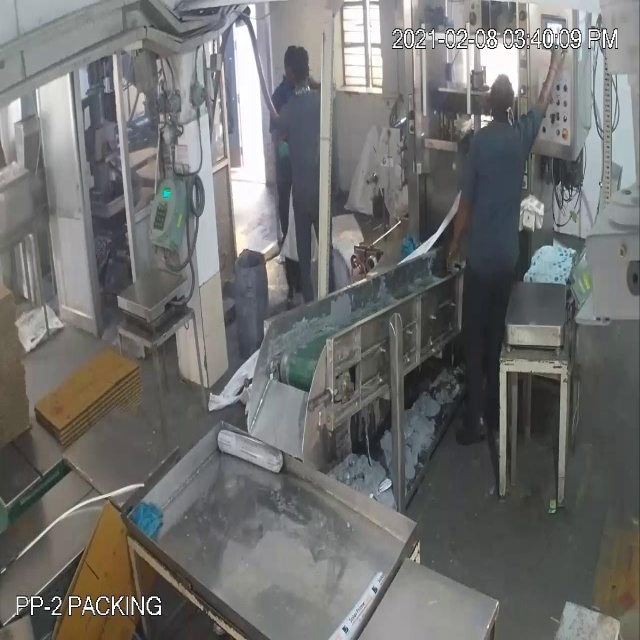Sin_guantes: (534, 40, 577, 127), (437, 181, 469, 275)
